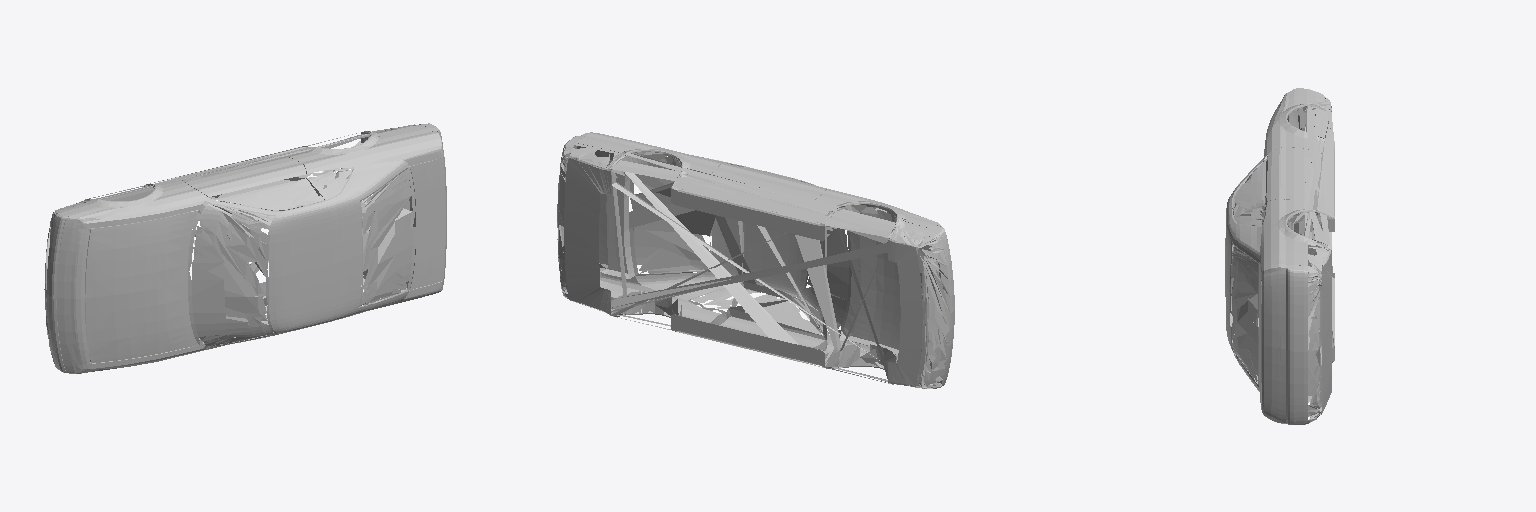
File: FART.obj
The picture shows the model from 3 angles: view 1: azimuth 30°, elevation 25°; view 2: azimuth 150°, elevation 25°; view 3: azimuth 270°, elevation 25°; orthographic projection.
Parts seen in each view (by area): view 1: fart_body0_fart_body0Mesh; view 2: fart_body0_fart_body0Mesh; view 3: fart_body0_fart_body0Mesh.
Part boxes in pixels (x1,y1,x2,y2): fart_body0_fart_body0Mesh: (44,123,446,373); fart_body0_fart_body0Mesh: (557,132,954,388); fart_body0_fart_body0Mesh: (1225,88,1334,424).
Bounding box in the file's own units: 4.6 × 1.85 × 1.11.